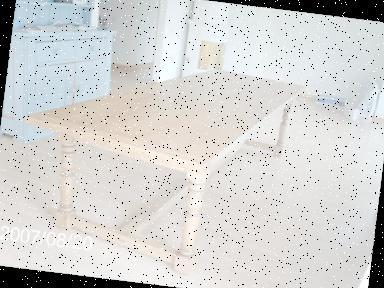Mesa: (10, 45, 308, 285)
